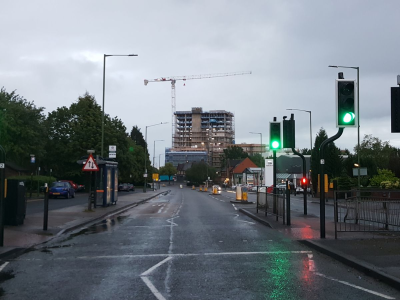trafficlight_green: (338, 83, 356, 126), (269, 123, 282, 150)
